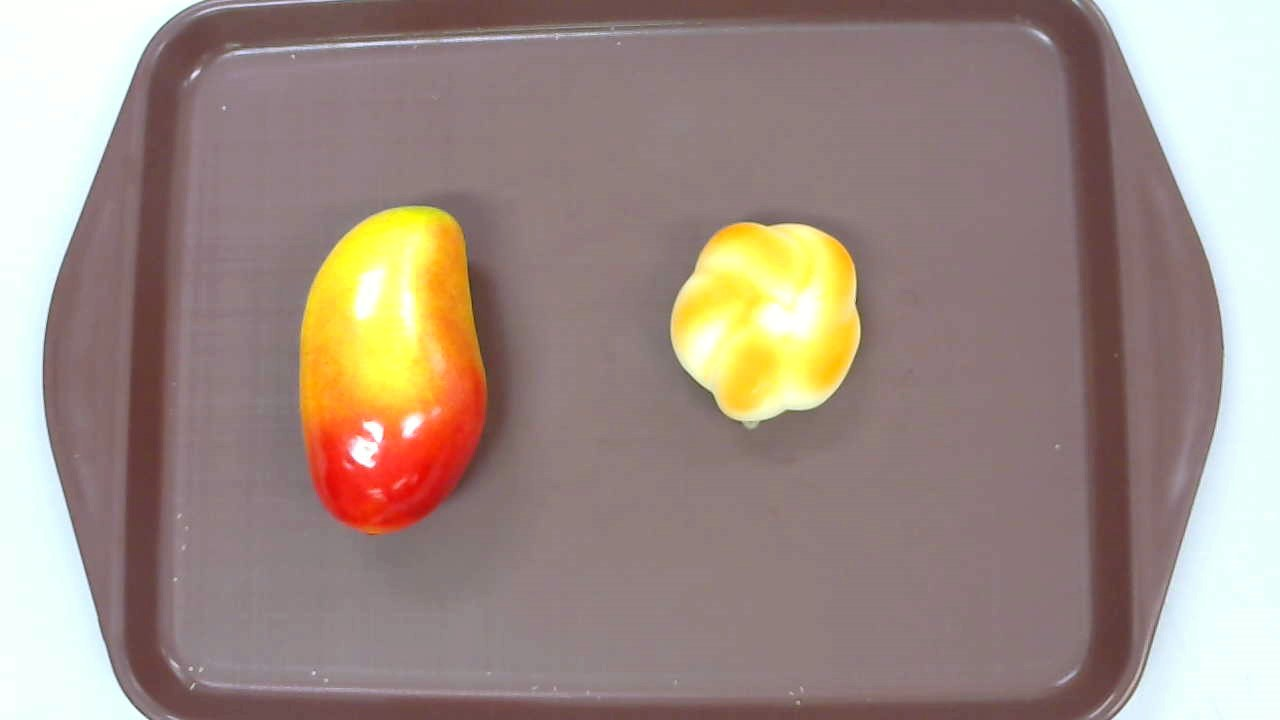red mango: (297, 205, 487, 534)
twist bread: (669, 222, 860, 431)
